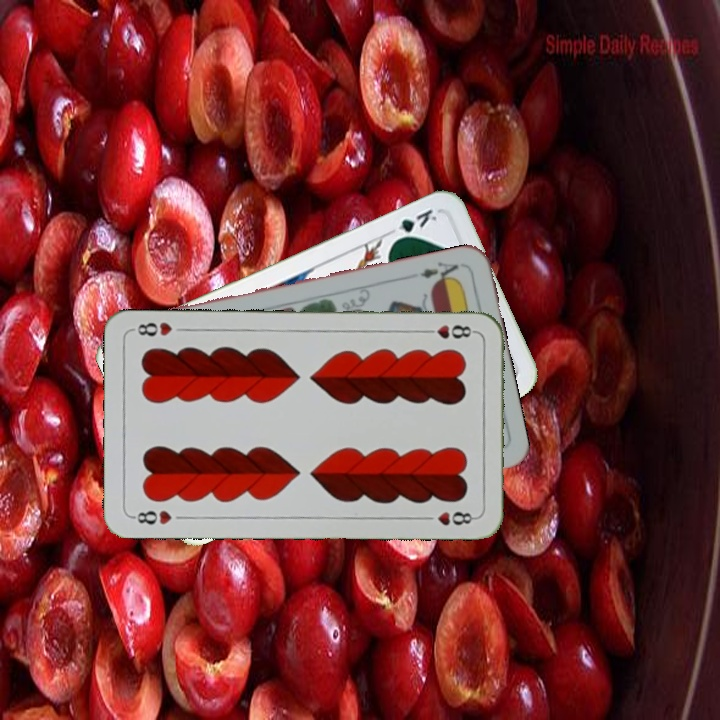EA: (416, 258, 461, 286)
GK: (388, 205, 440, 245)
H8: (419, 321, 478, 341), (128, 506, 174, 527)
